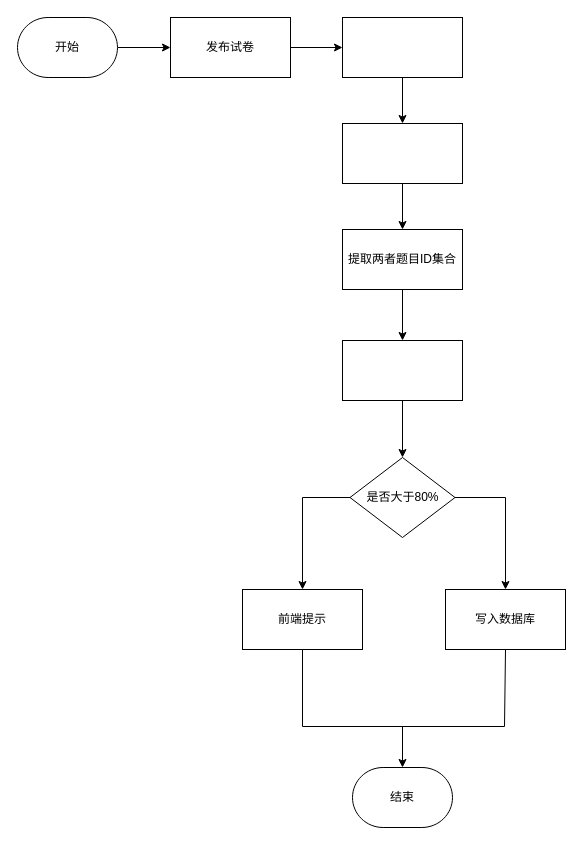
The diagram is 583 pixels wide and 845 high, and some of its shapes have lost their labels. The box of each missing label's shape, as (x1, y1, x2, y2) in pixels:
获取教师试卷库: (342, 16, 462, 78)
计算ID集合交集率: (342, 340, 462, 400)
遍历试卷库 提取试卷: (342, 122, 462, 184)
